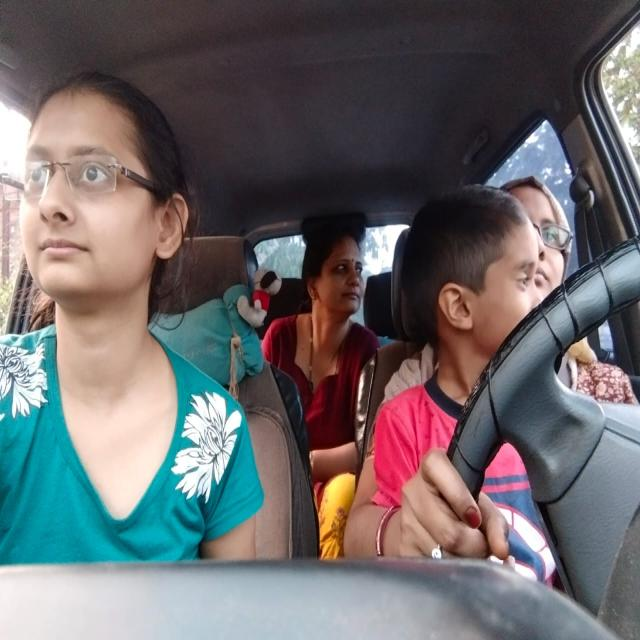child: (410, 182, 548, 353)
person: (20, 70, 189, 315), (506, 163, 592, 322), (300, 215, 372, 327)
